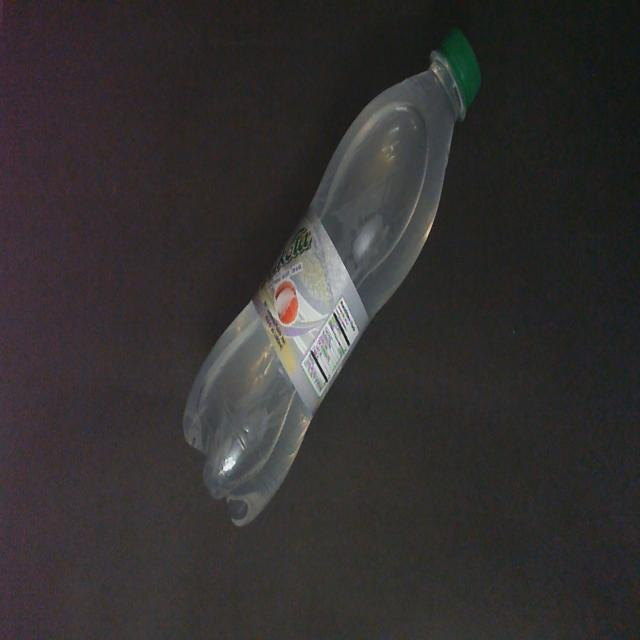non-defect: (180, 22, 484, 532)
